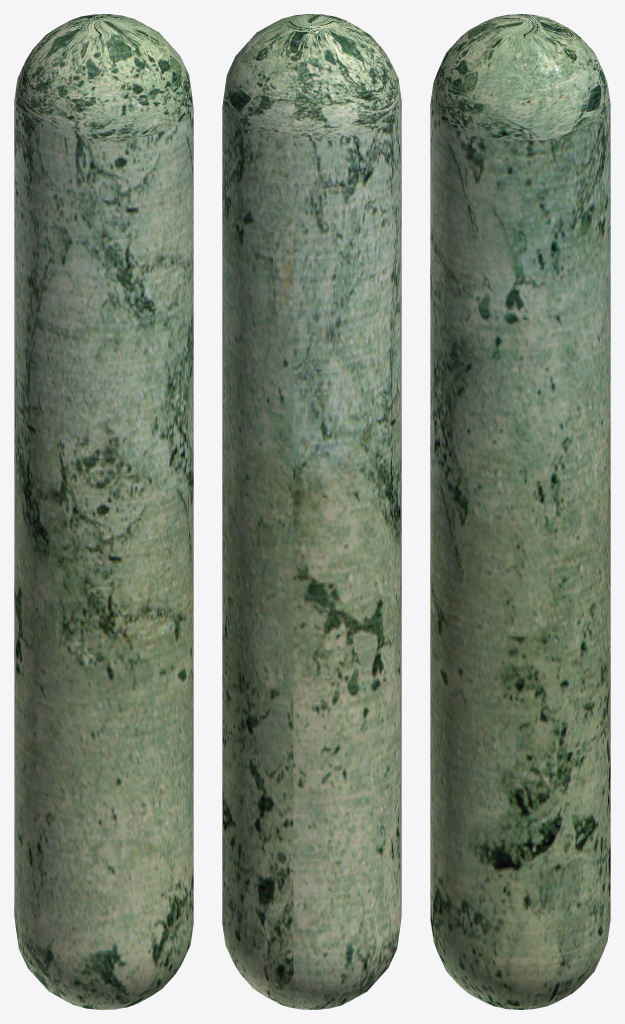
Rendered from EmCity_towerTall.fbx.
The picture shows the model from 3 angles, left to right: view 1: azimuth 30°, elevation 25°; view 2: azimuth 150°, elevation 25°; view 3: azimuth 270°, elevation 25°; orthographic projection.
Parts seen in each view (by area): view 1: pTallBldg2; view 2: pTallBldg2; view 3: pTallBldg2.
Part boxes in pixels (x1,y1,x2,y2): pTallBldg2: (14, 14, 193, 1009); pTallBldg2: (222, 14, 401, 1009); pTallBldg2: (430, 14, 610, 1009).
Bounding box in the file's own units: 12 × 72 × 12.
